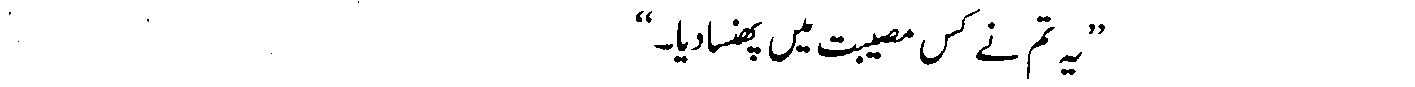bay_shosha: (851, 41, 864, 66)
